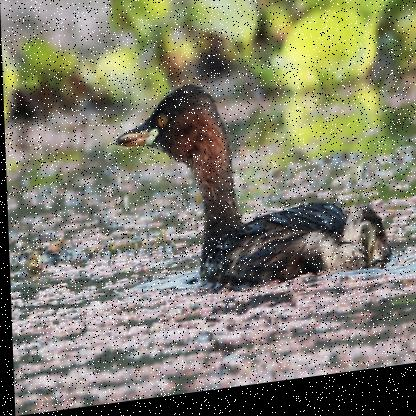Burung: (112, 68, 391, 305)
